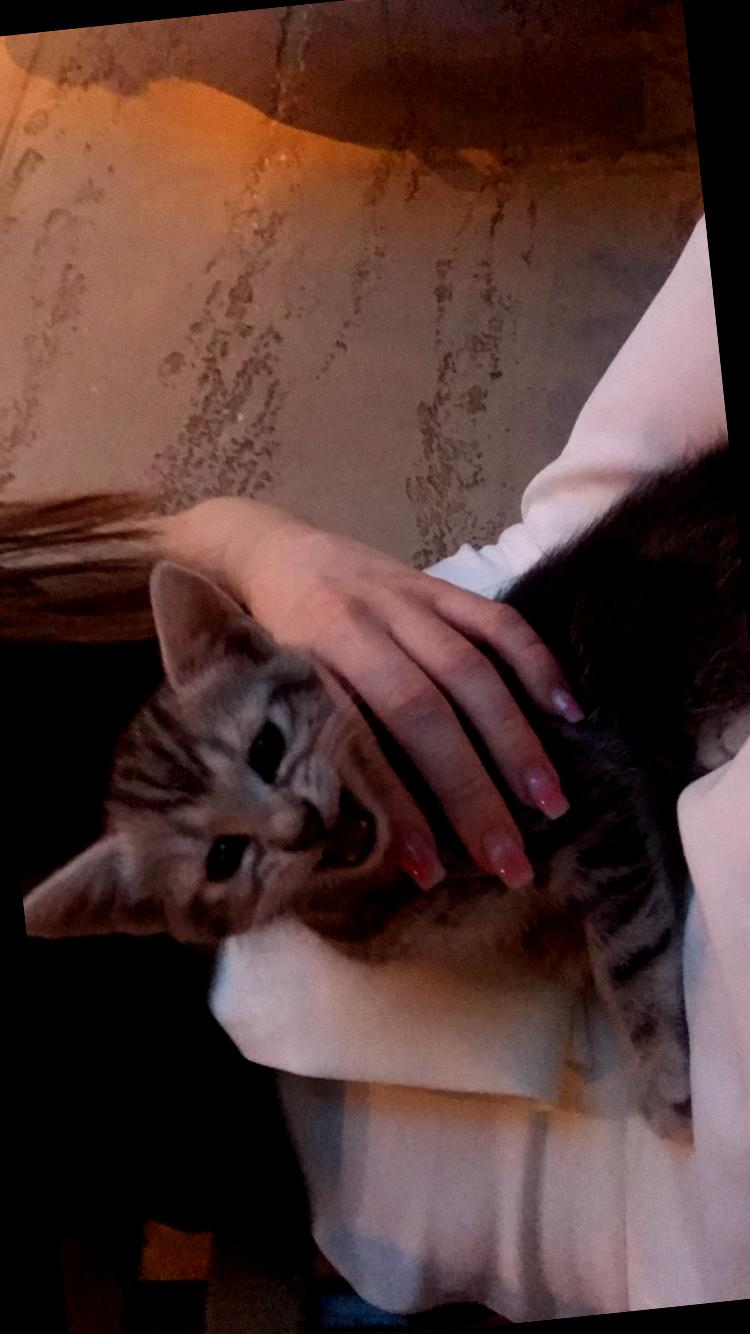macka: (0, 434, 750, 1212)
